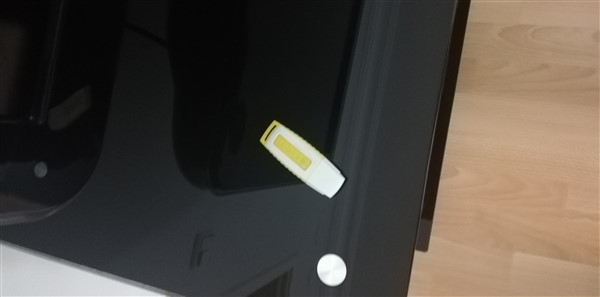flash disk: (258, 118, 351, 211)
